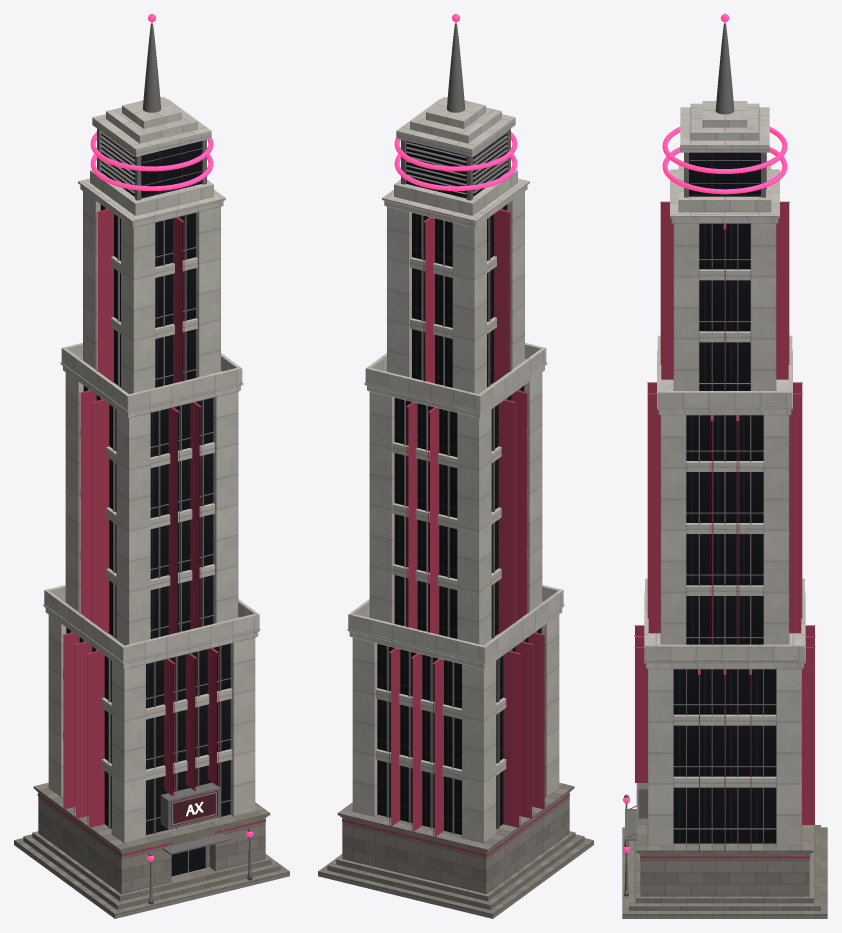
File: s09-astrological-x.glb
3 renders of one model, left to right at view 1: azimuth 30°, elevation 25°; view 2: azimuth 150°, elevation 25°; view 3: azimuth 270°, elevation 25°, orthographic.
Parts seen in each view (by area): view 1: Landmark · Astrological.X (Series 9); view 2: Landmark · Astrological.X (Series 9); view 3: Landmark · Astrological.X (Series 9).
Boxes of the visible parts, left/top/right/bottom form: Landmark · Astrological.X (Series 9): left=14, top=14, right=289, bottom=918; Landmark · Astrological.X (Series 9): left=318, top=14, right=593, bottom=918; Landmark · Astrological.X (Series 9): left=622, top=14, right=827, bottom=918.
Size of the model in its own units: 12 by 55.5 by 12.
Materials: 7 (4 with a texture image).
